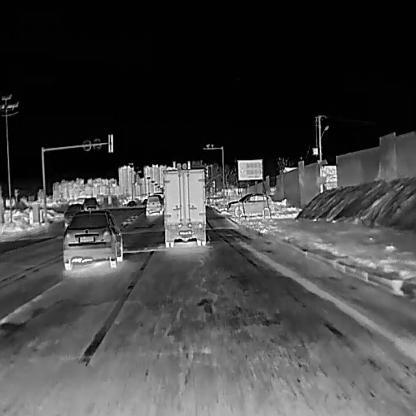car: (61, 209, 123, 270), (161, 167, 207, 248), (225, 193, 274, 218), (63, 202, 85, 229), (144, 195, 162, 216), (82, 197, 100, 214)
